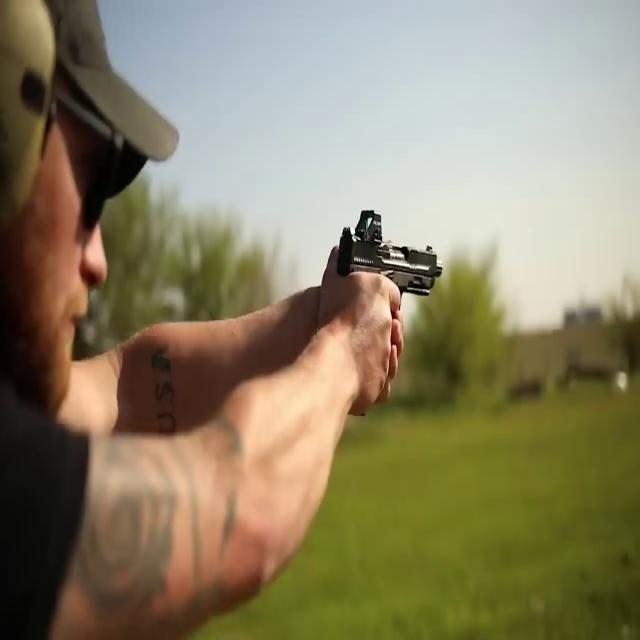Handgun: (322, 198, 458, 406)
